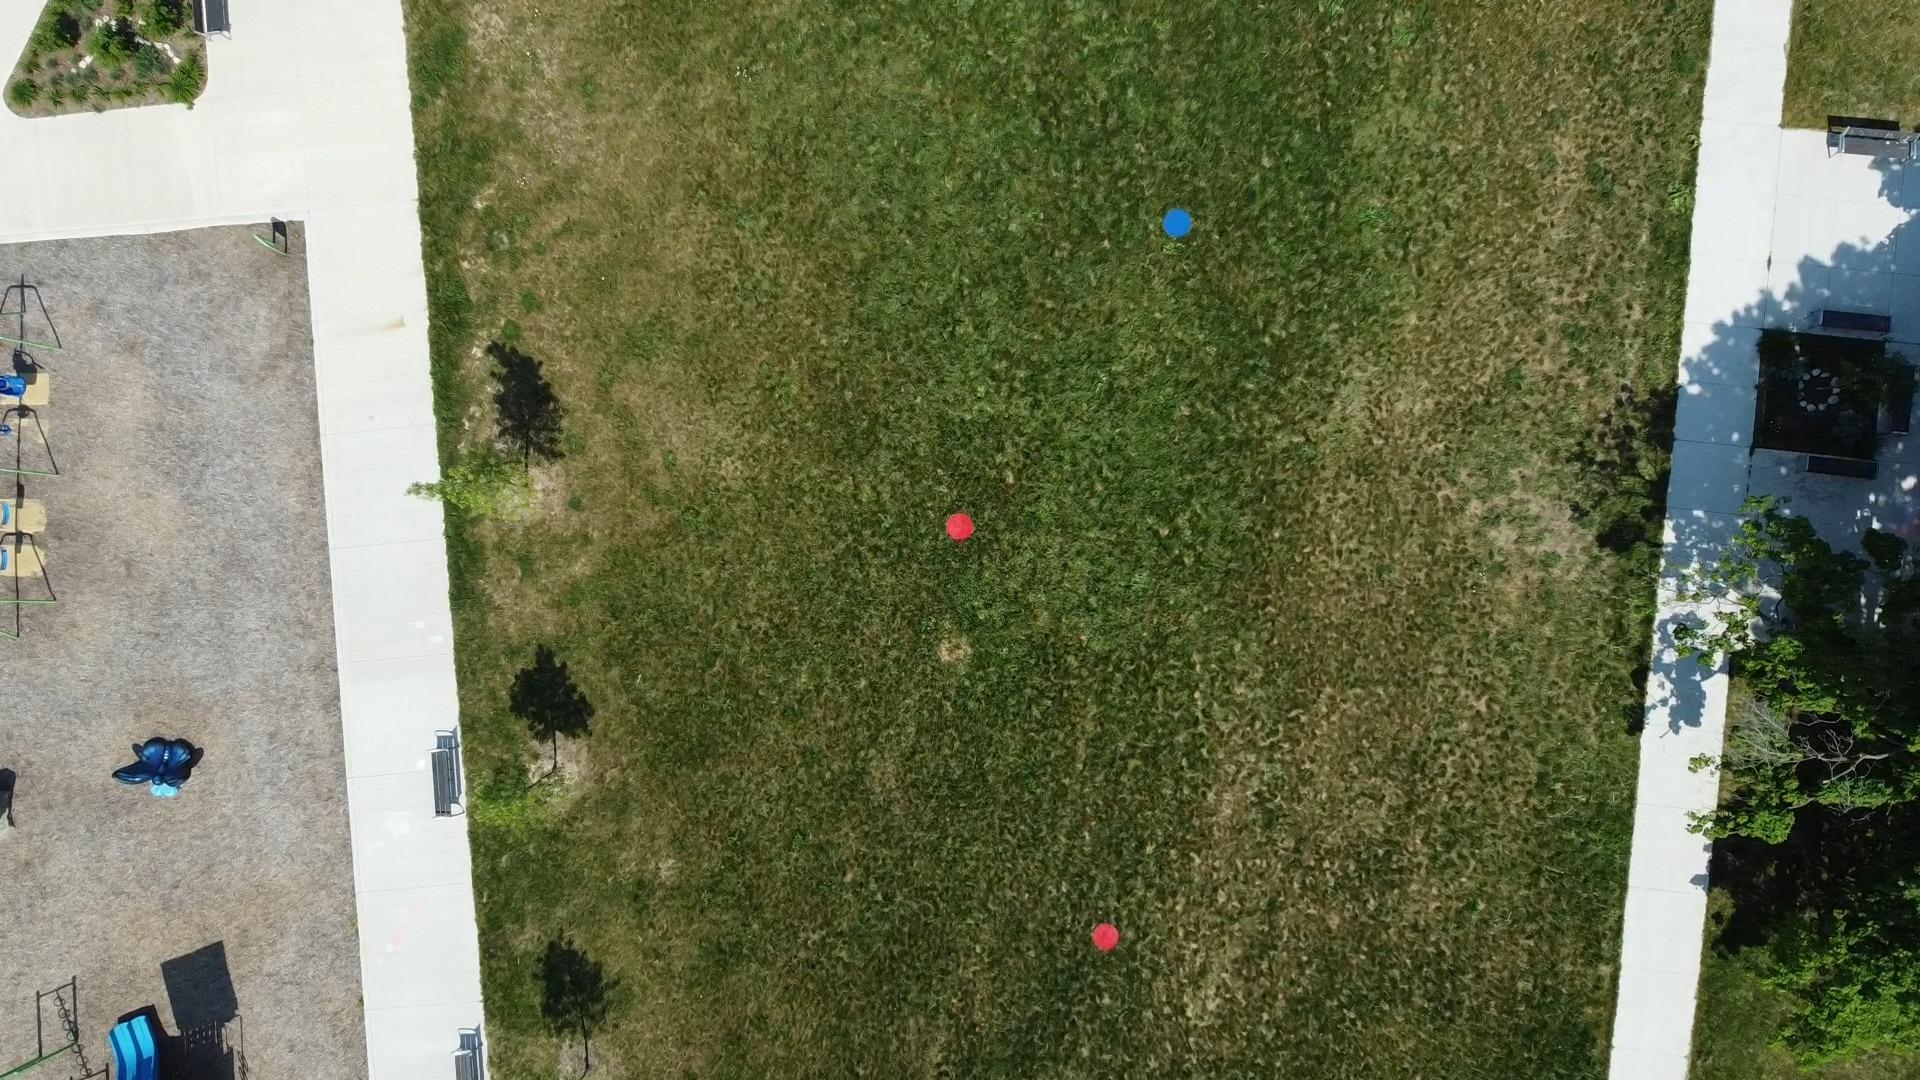Blue: (1162, 207, 1193, 239)
Red: (943, 512, 977, 542), (1092, 922, 1122, 952)
